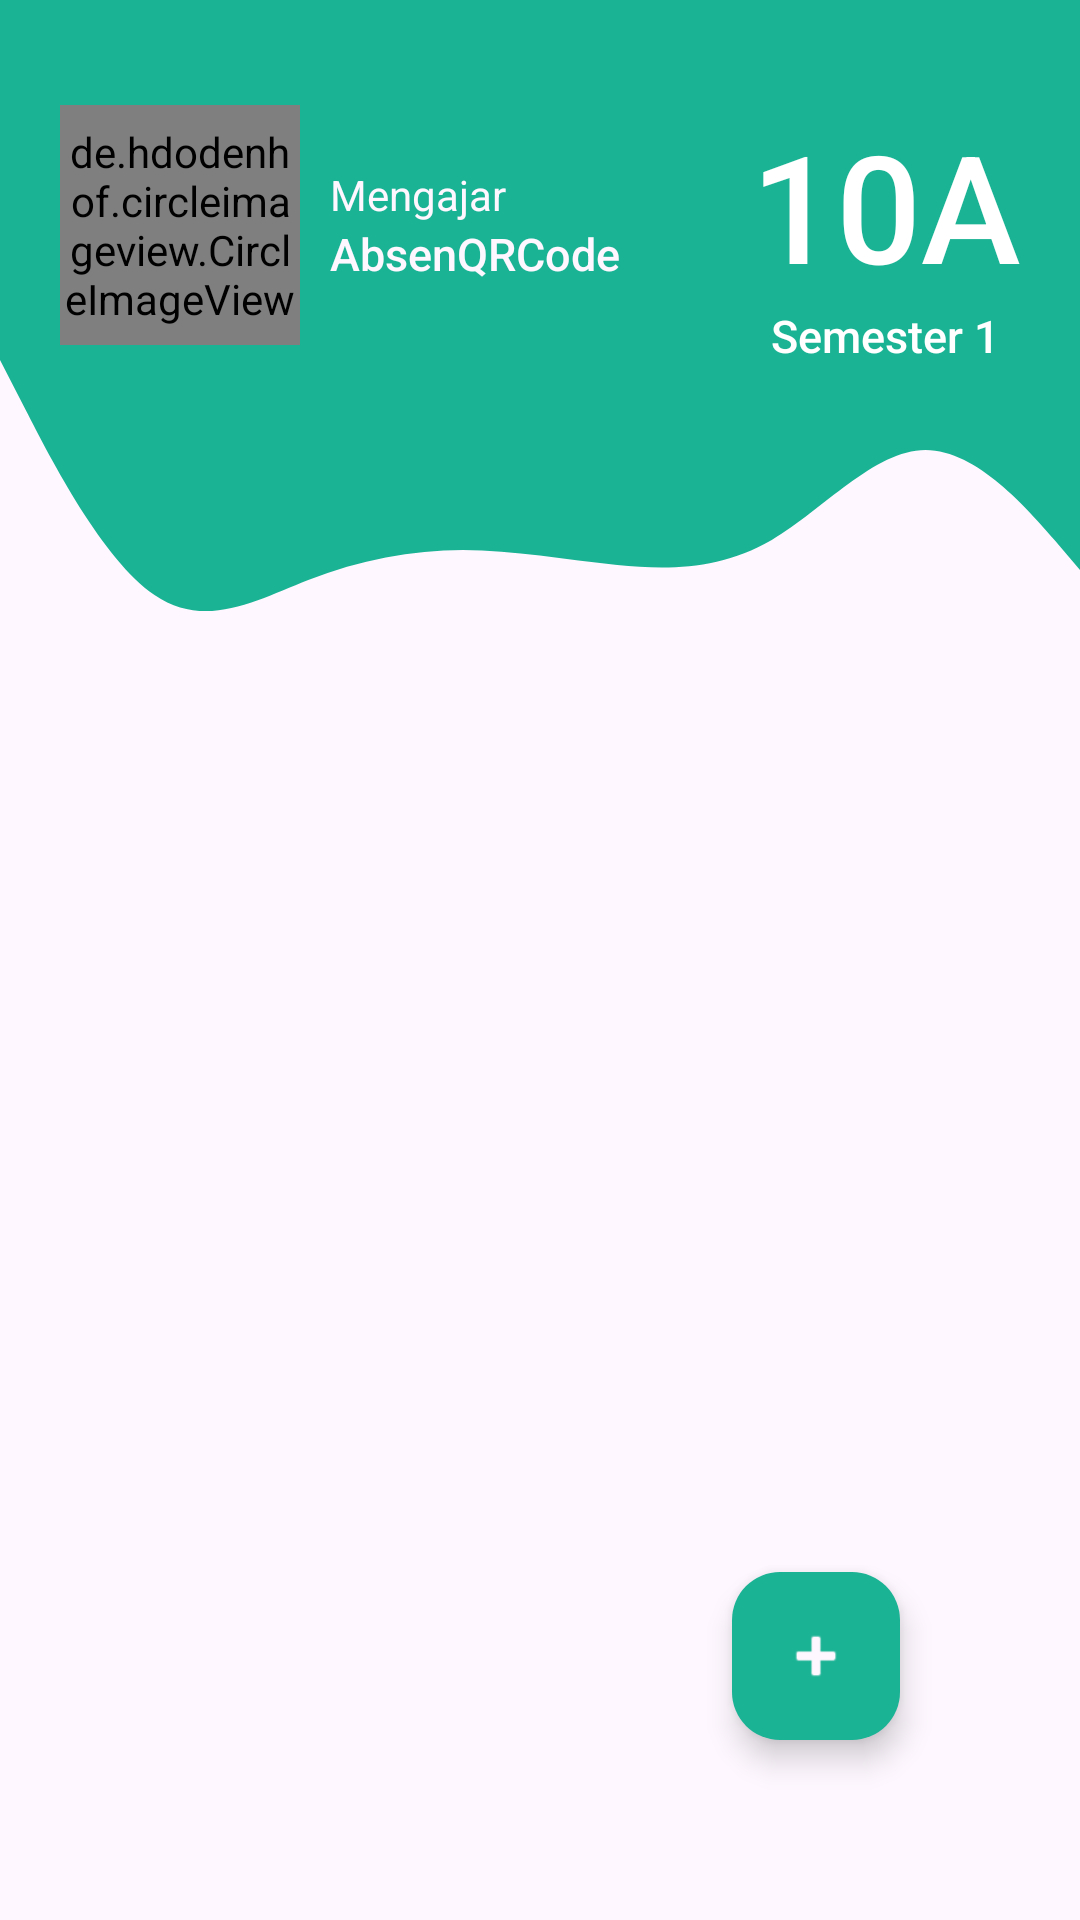

Point at icon controls on the screen. Image size 1080w x 1920h, points as point (x, y).
add: point (816, 1656)
